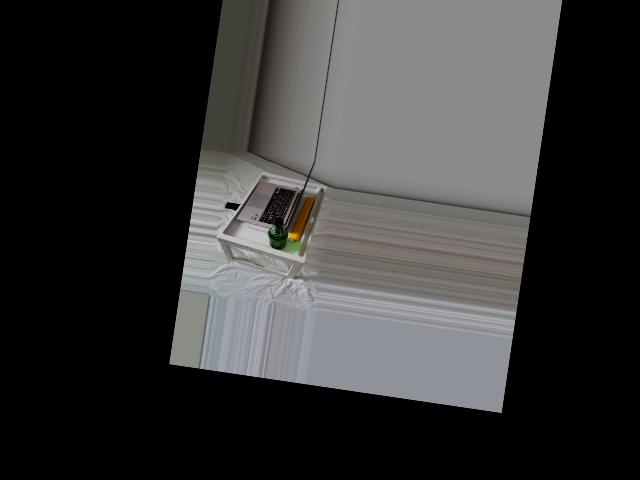beer: (266, 216, 290, 250)
